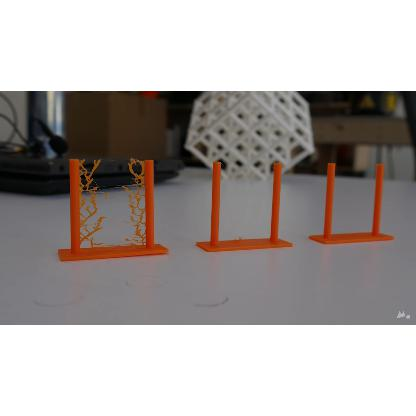fail: (83, 158, 149, 244)
